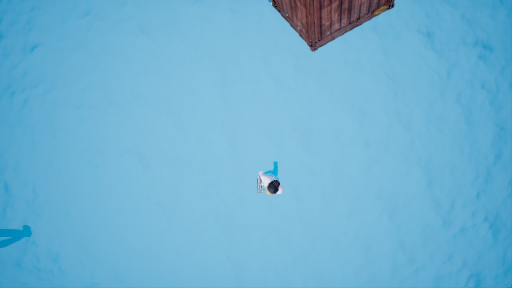person: (249, 158, 287, 197)
